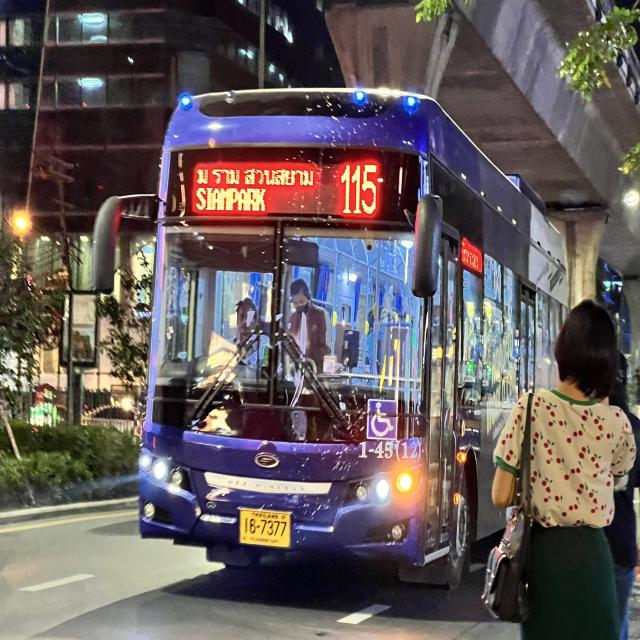Bus-Line-Number: (338, 160, 384, 217)
Destination-Sign-Normal: (189, 158, 331, 220)
TSB-Bus: (140, 74, 572, 598)
